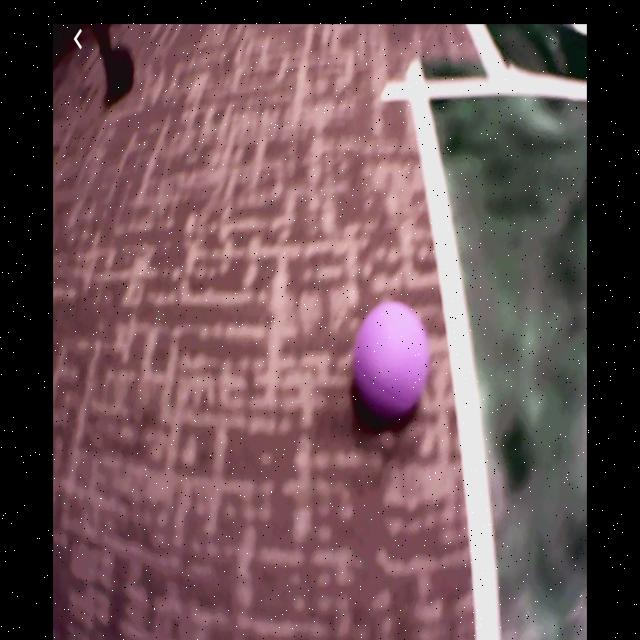ball: (350, 298, 431, 428)
